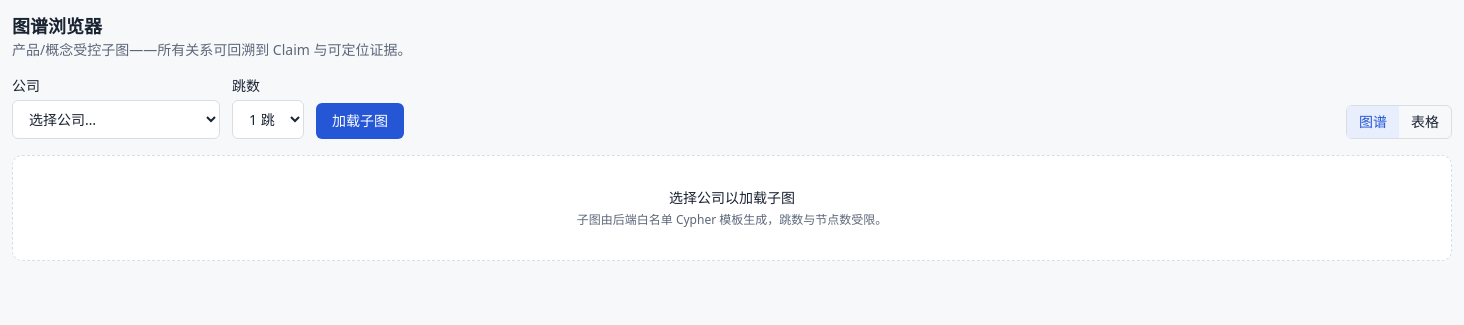
it: STALE 投影水位落后（二审 N3 回归） › STALE → 横幅说明 + PG 事实回退表格 + 证据链入口
This screenshot has width=1464, height=325.
Select "中心公司" in the dropdown named "选择公司". click: point(116, 120)
box: [12, 100, 220, 139]
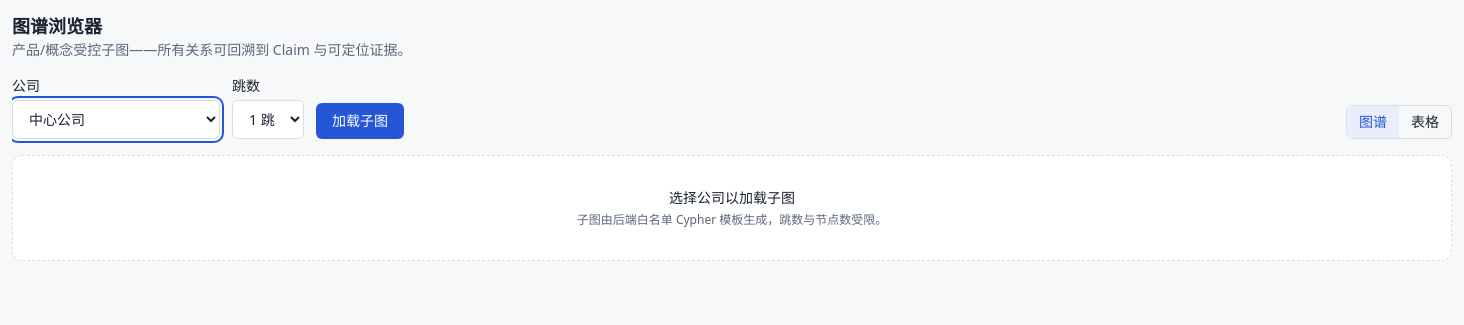
Click the button "加载子图". click: point(360, 121)
box: [316, 103, 404, 139]
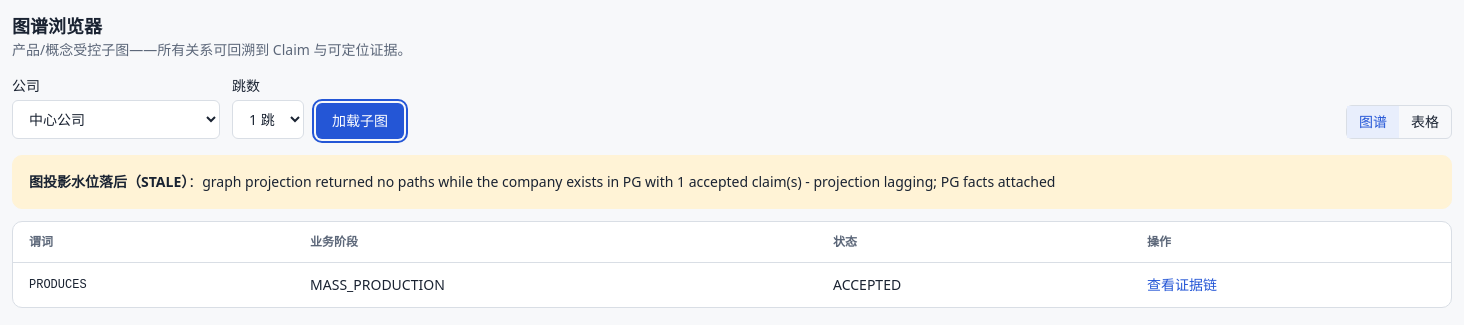
Result: the text "图投影水位落后（STALE）" is shown at [29, 172, 188, 191]
Result: the text "projection lagging" is shown at [202, 172, 1056, 191]
Result: the table named "PostgreSQL 事实回退" is shown at [13, 222, 1451, 307]
